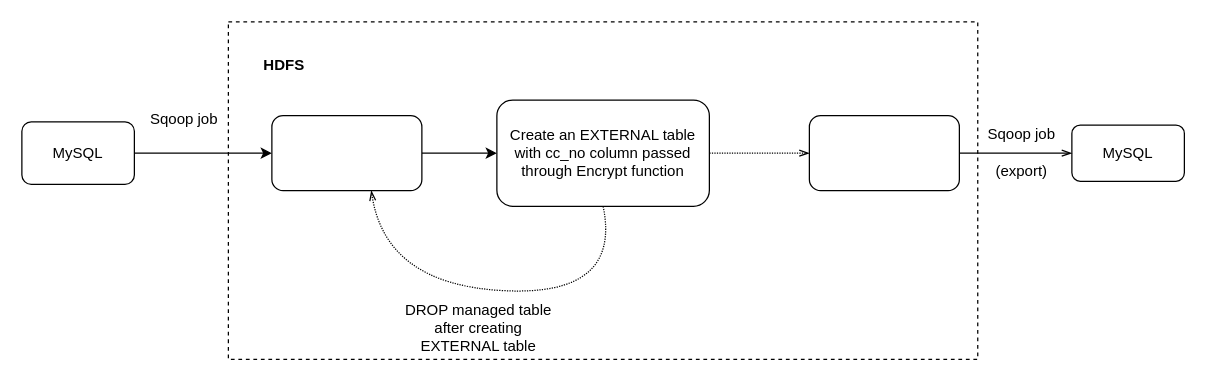
The diagram is 1206 pixels wide and 381 high, and some of its shapes have lost their labels. Here are the shapes that lost their labels. From the top down, the box of each, then its label:
(271, 114, 422, 191): Create a managed table in Hive
(808, 114, 959, 191): Create another table, import data from XML file
